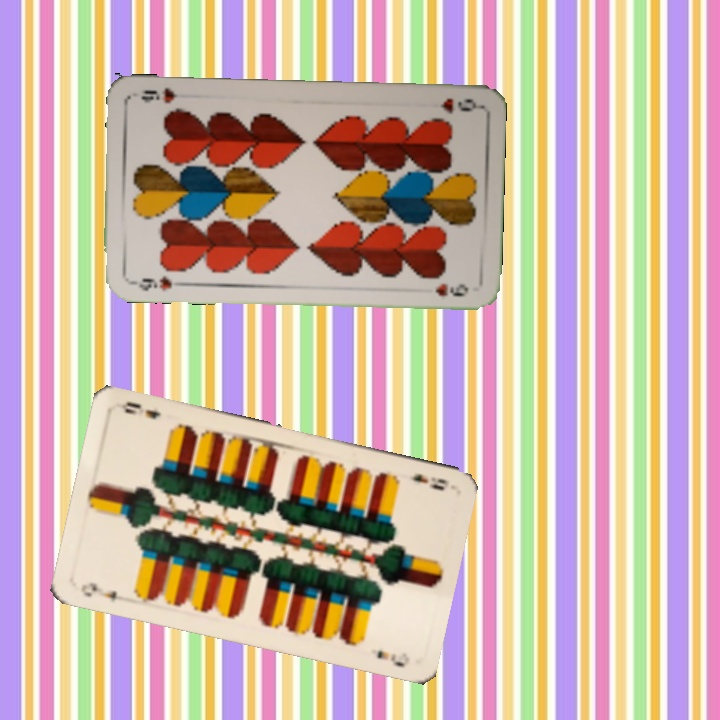E9: (407, 469, 452, 493), (77, 578, 120, 603)
H9: (126, 272, 185, 294), (436, 94, 480, 116)
